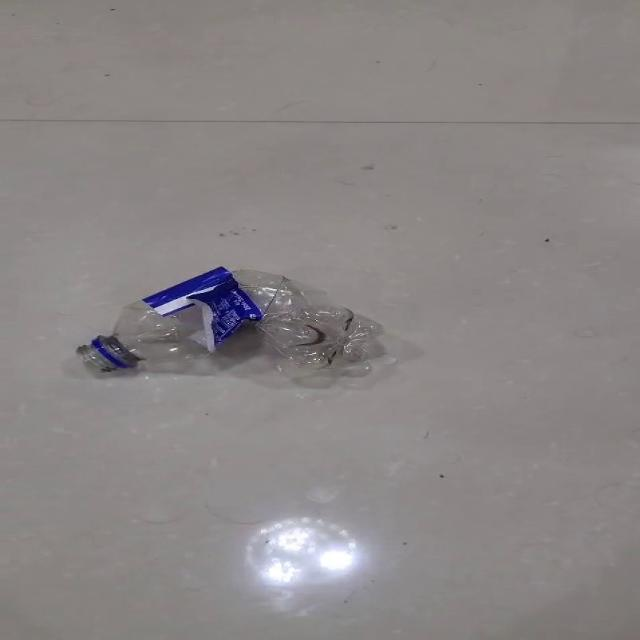plastic: (75, 265, 384, 380)
